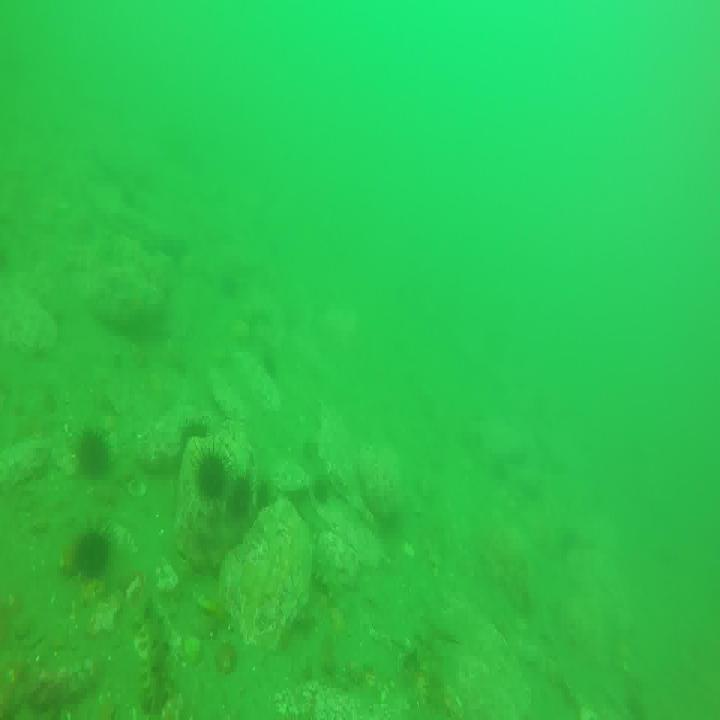echinus: (74, 526, 113, 580), (196, 443, 228, 502), (79, 428, 109, 477), (232, 474, 254, 516)
holothurian: (136, 595, 173, 719)
